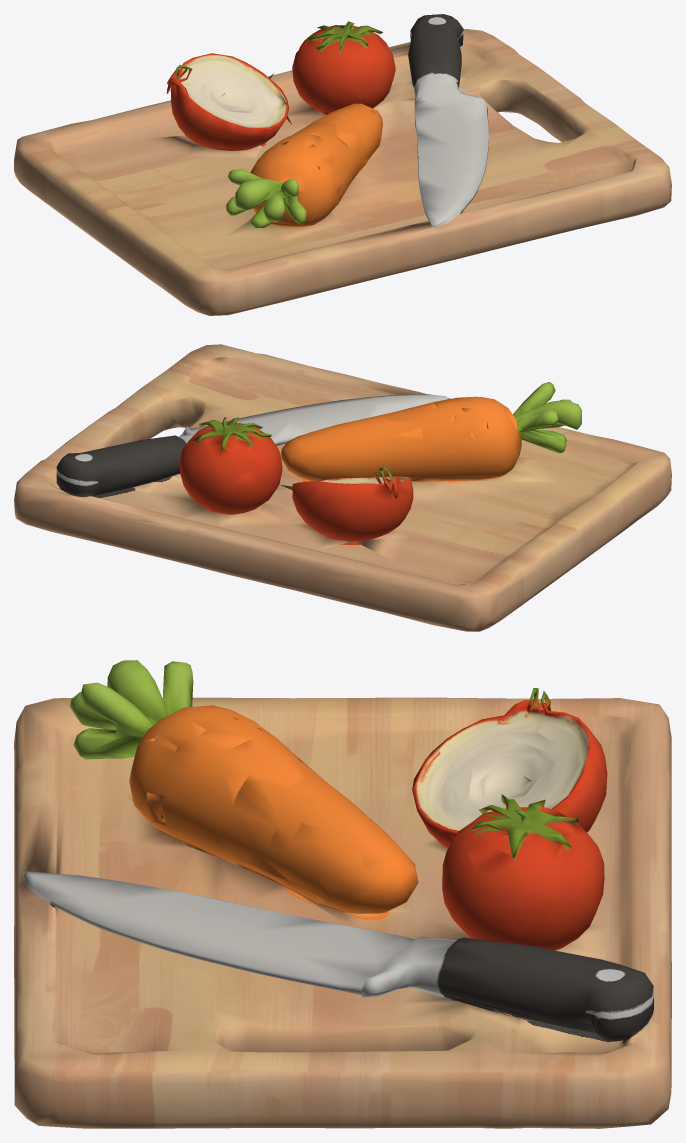
The model's file is cutting_board.glb.
3 views of the same model, one above another, from view 1: azimuth 30°, elevation 25°; view 2: azimuth 150°, elevation 25°; view 3: azimuth 270°, elevation 25° (orthographic). The views are drawn at different scales.
Visible parts, largest first — view 1: cutting_board; view 2: cutting_board; view 3: cutting_board.
Part boxes in pixels (<box>): cutting_board: <box>14,14,671,315</box>; cutting_board: <box>14,344,671,631</box>; cutting_board: <box>14,660,671,1128</box>.
Size of the model in its own units: 0.4001 by 0.0924 by 0.2934.
1 material, 1 textured.
